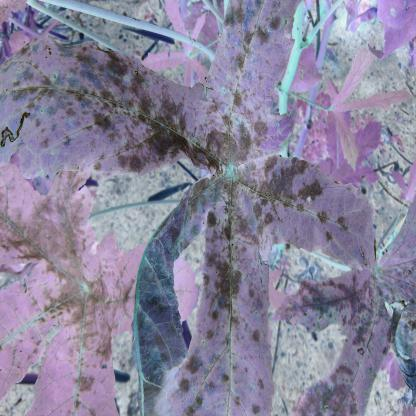Squash Powdery mildew leaf: (0, 6, 302, 180), (150, 158, 282, 416), (242, 145, 388, 282), (287, 266, 391, 416)
